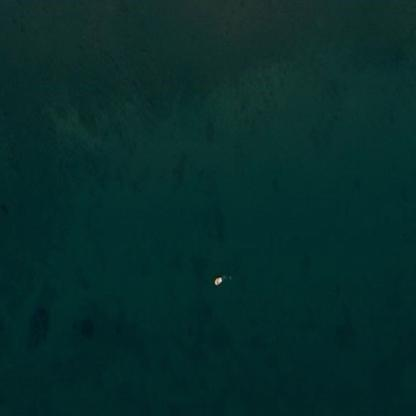ship: (209, 272, 233, 288)
